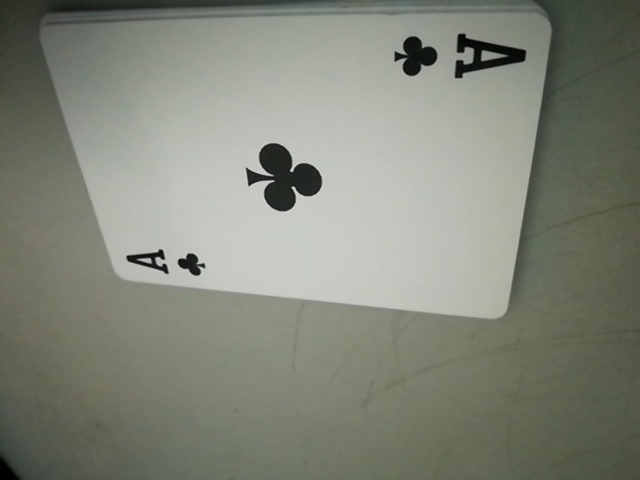mh a: (388, 26, 525, 90), (118, 239, 217, 283)
